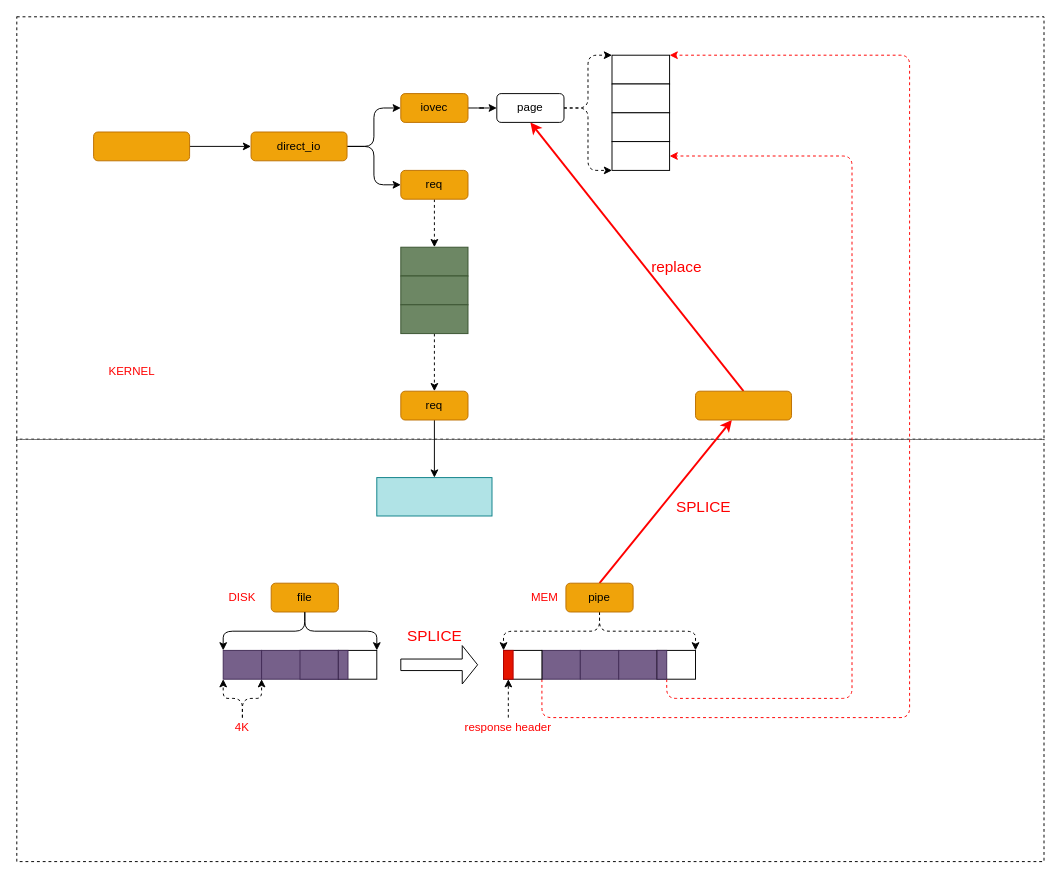
This 1061x878 diagram has some shape labels left out. Each missing label, with the box of its shape:
fuse server: (376, 477, 492, 516)
fuse_dev: (695, 390, 792, 420)
fuse_inode: (93, 131, 190, 161)
